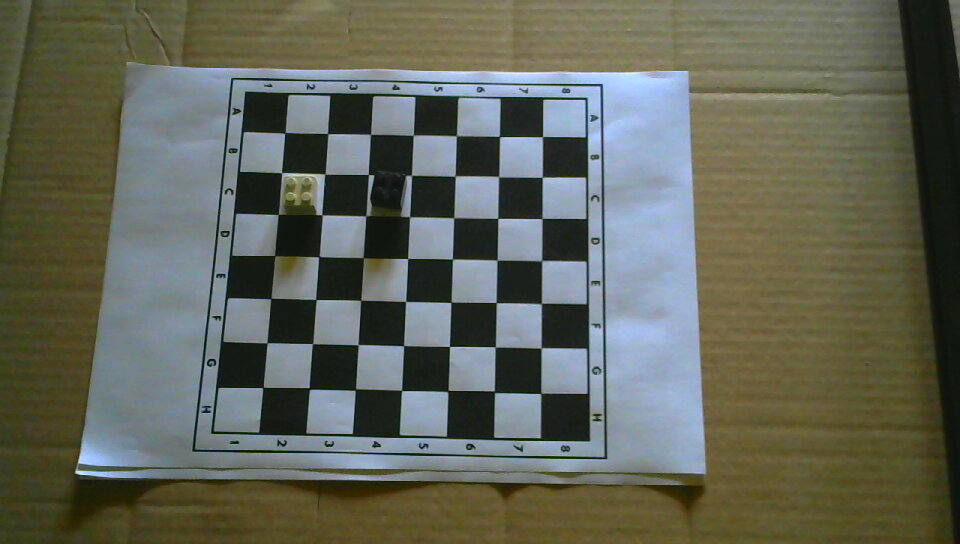bp: (370, 169, 407, 211)
wp: (282, 174, 319, 216)
